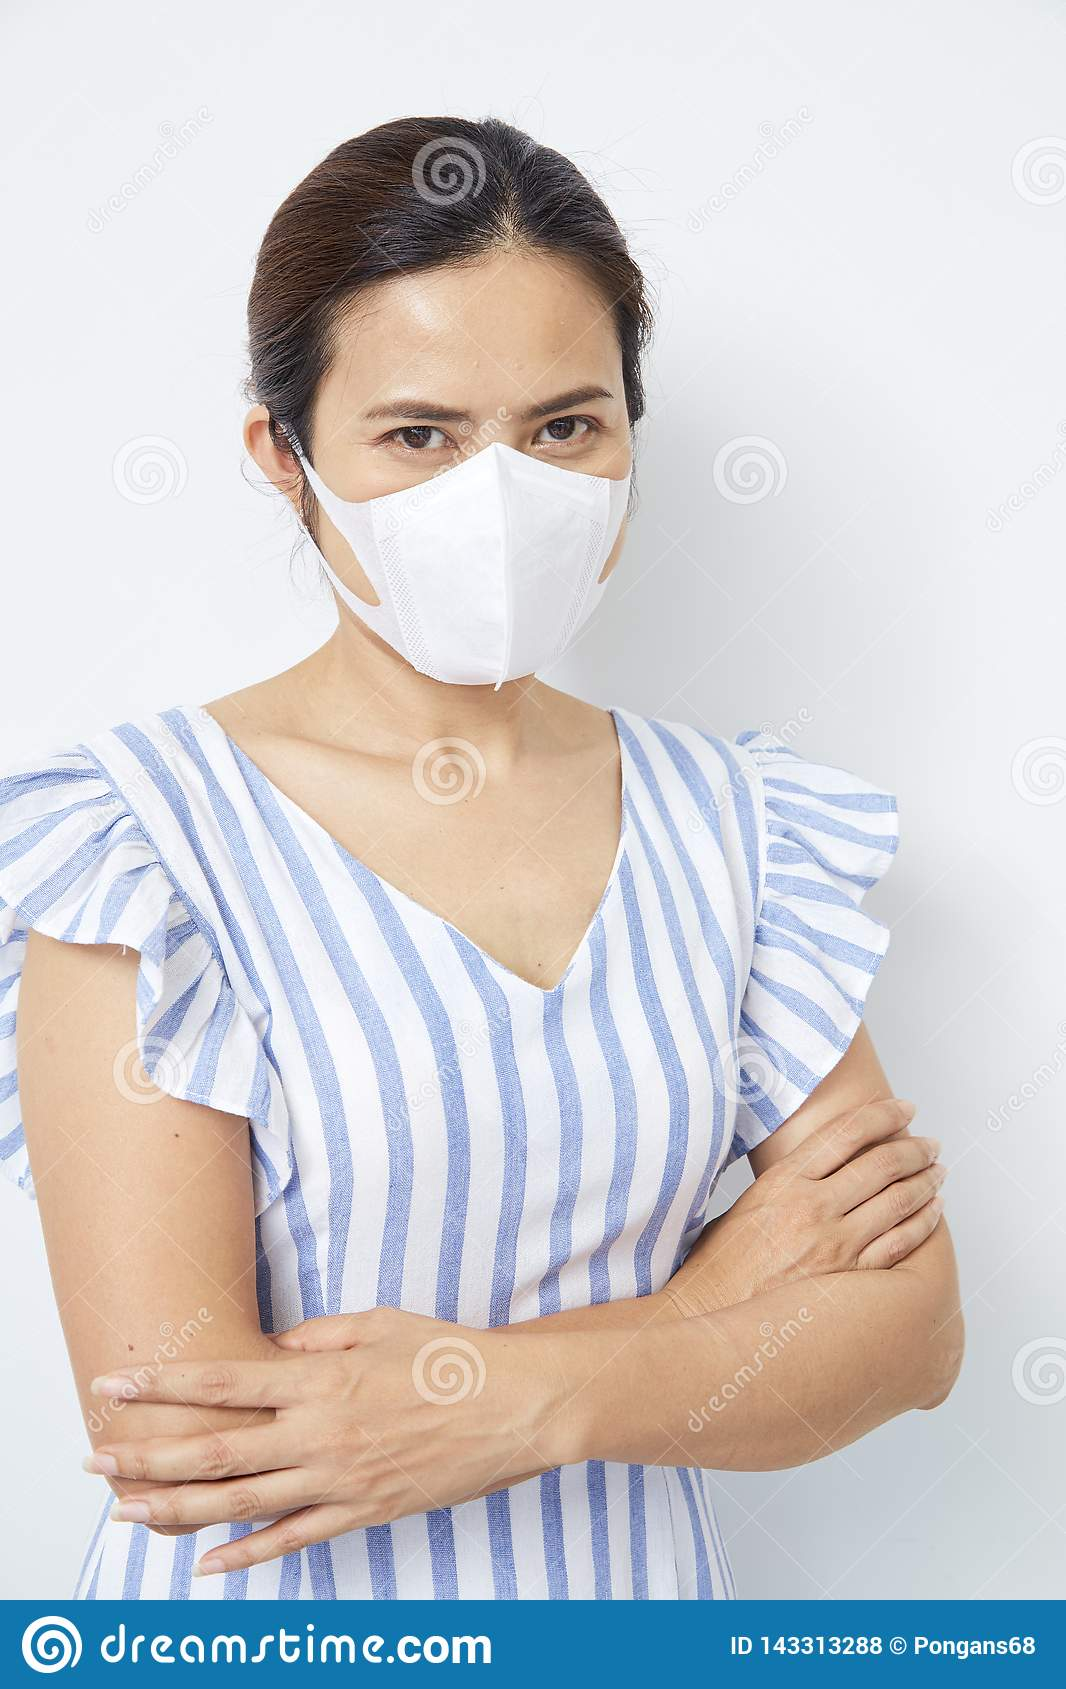mask: (341, 444, 625, 685)
